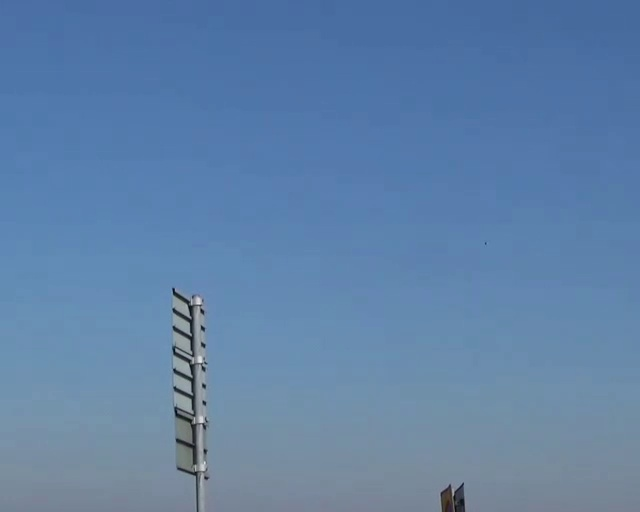BIRD: (480, 230, 494, 245)
